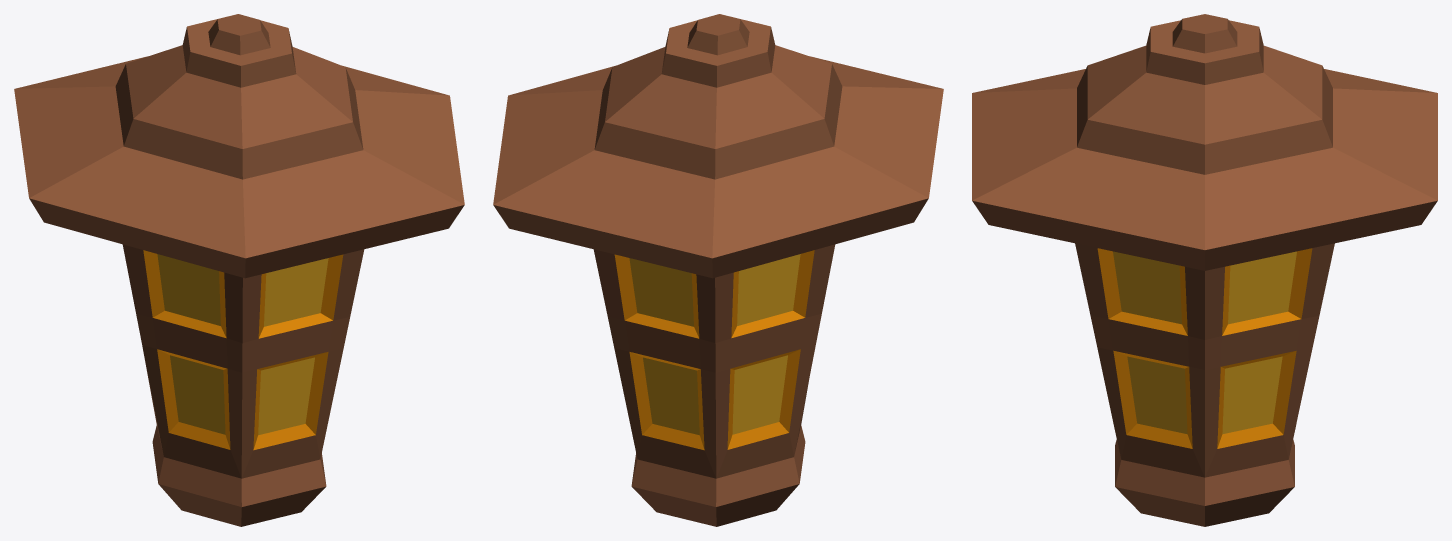
Rendered from Prop_Lantern.fbx.
3 views of the same model, side by side, from view 1: azimuth 30°, elevation 25°; view 2: azimuth 150°, elevation 25°; view 3: azimuth 270°, elevation 25° (orthographic).
Parts seen in each view (by area): view 1: Model_Ship_Lantern.001; view 2: Model_Ship_Lantern.001; view 3: Model_Ship_Lantern.001.
Boxes of the visible parts, x1=… form: Model_Ship_Lantern.001: x1=14, y1=14, x2=464, y2=526; Model_Ship_Lantern.001: x1=493, y1=14, x2=943, y2=526; Model_Ship_Lantern.001: x1=972, y1=14, x2=1437, y2=526.
Bounding box in the file's own units: 871 × 932 × 829.
